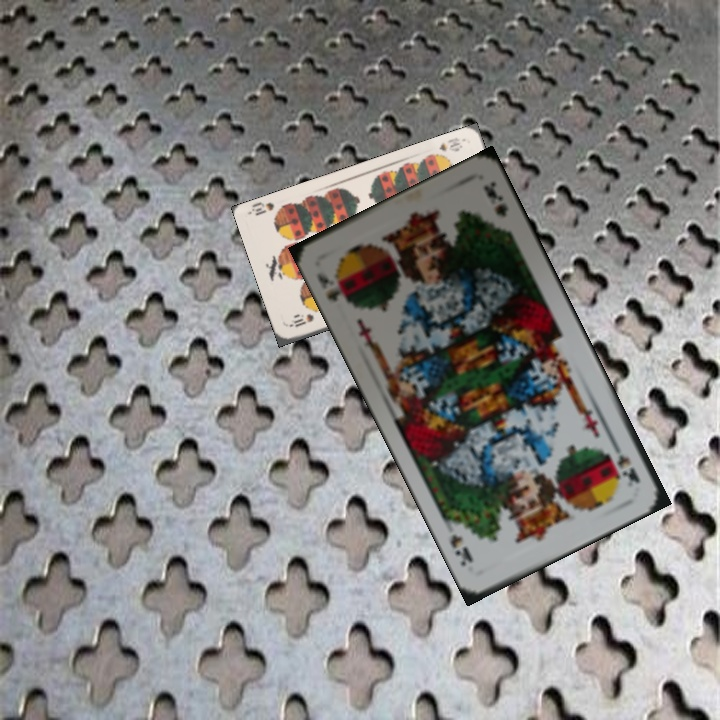S10: (435, 133, 465, 154), (287, 310, 316, 330)
SK: (607, 436, 643, 486), (312, 266, 353, 306)
